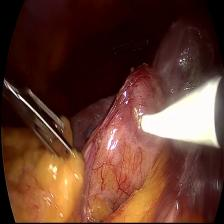Grasper: (4, 71, 80, 167)
Hook: (131, 77, 219, 153)
